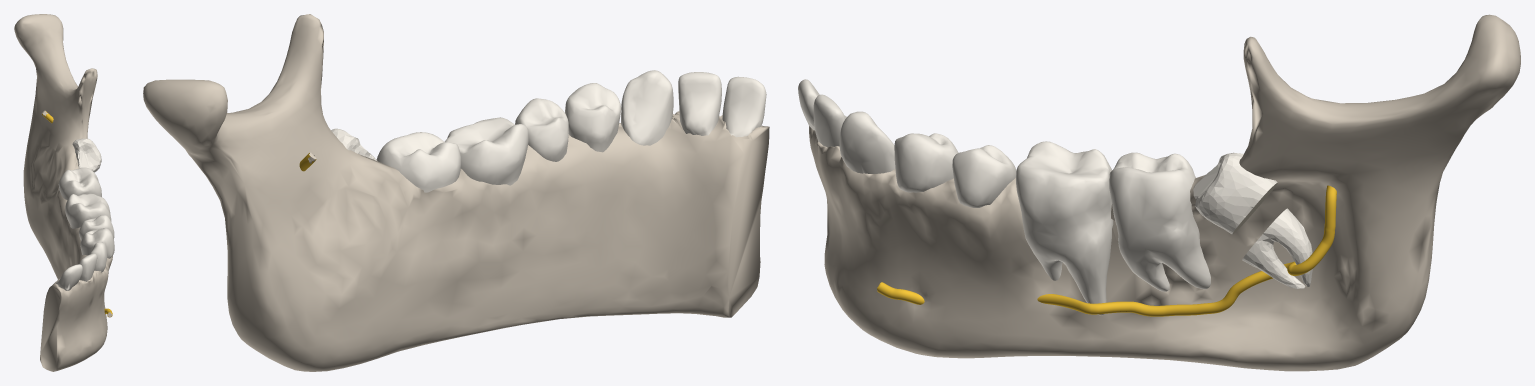
The model's file is coronectomy-during.glb.
The picture shows the model from 3 angles, left to right: view 1: azimuth 30°, elevation 25°; view 2: azimuth 150°, elevation 25°; view 3: azimuth 270°, elevation 25°; orthographic projection. The views are drawn at different scales.
Parts seen in each view (by area): view 1: mandible left, teeth_2, wisdom tooth crown, nerve_2; view 2: mandible left, teeth_2; view 3: mandible left, teeth_2, nerve_2, wisdom tooth crown, wisdom tooth roots.
Part boxes in pixels (x1,y1,x2,y2): mandible left: (14,14,112,371); teeth_2: (55,167,114,290); wisdom tooth crown: (72,138,101,172); nerve_2: (42,111,112,316); mandible left: (143,14,769,371); teeth_2: (376,70,766,192); mandible left: (809,14,1520,371); teeth_2: (798,79,1210,315); nerve_2: (877,185,1336,316); wisdom tooth crown: (1193,152,1277,233); wisdom tooth roots: (1242,208,1312,288).
Bounding box in the file's own units: 0.0913 × 0.1057 × 0.1665.
